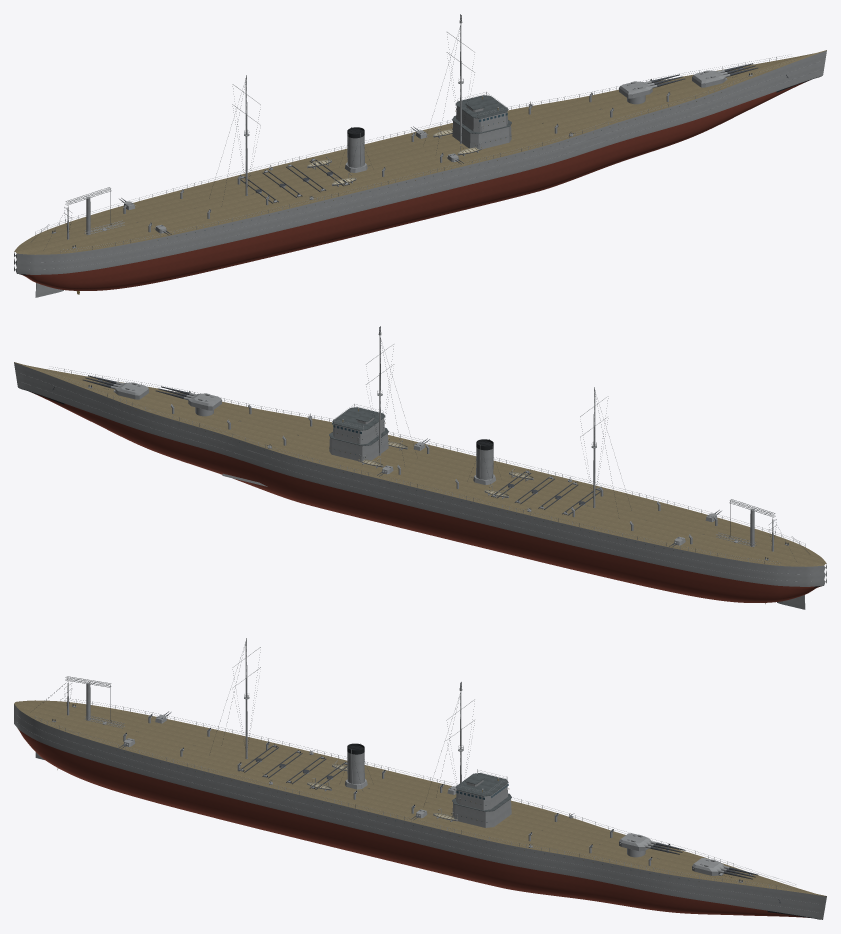
The model's file is atlantis_raider.glb.
The picture shows the model from 3 angles, top to bottom: view 1: azimuth 30°, elevation 25°; view 2: azimuth 150°, elevation 25°; view 3: azimuth 330°, elevation 25°; orthographic projection.
Parts seen in each view (by area): view 1: Atlantis class; view 2: Atlantis class; view 3: Atlantis class.
Boxes of the visible parts, bbox=[...] form: Atlantis class: bbox=[14, 14, 826, 297]; Atlantis class: bbox=[14, 326, 826, 609]; Atlantis class: bbox=[14, 638, 826, 919].
Bounding box in the file's own units: 232 × 49.66 × 25.01.
Materials: 9 (8 with a texture image).
